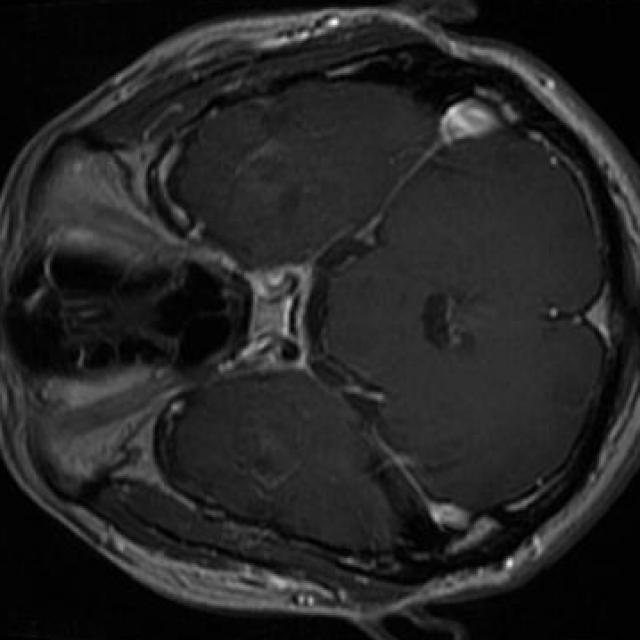glioma: (241, 139, 323, 225)
